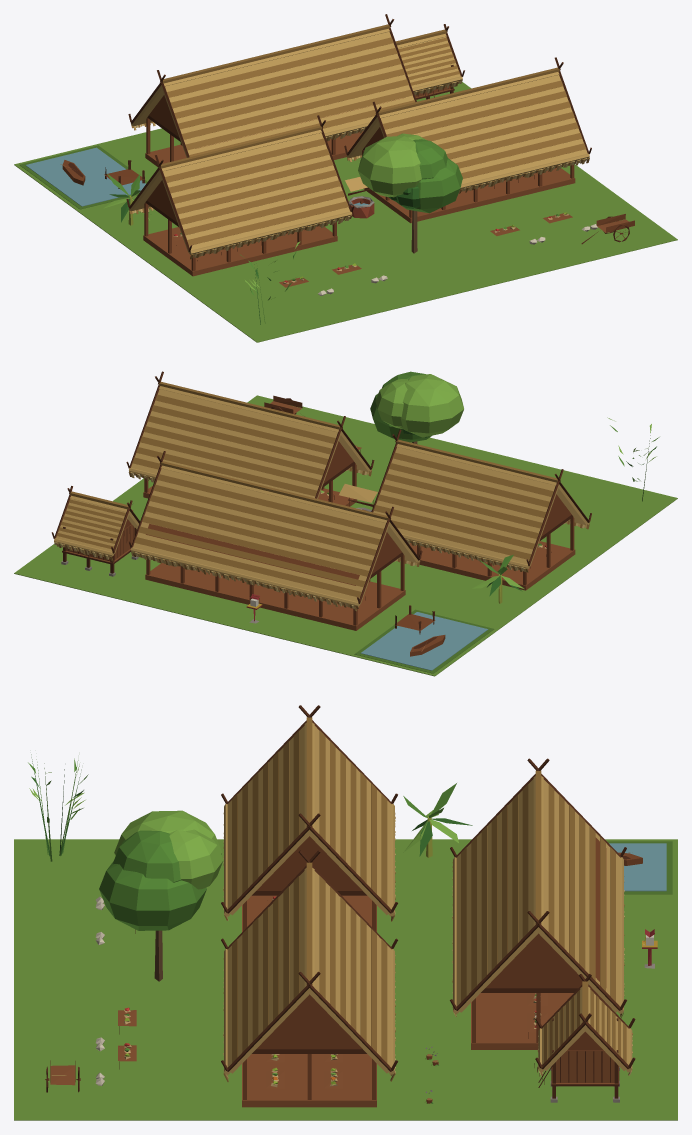
File: shop_5.glb
The picture shows the model from 3 angles, top to bottom: view 1: azimuth 30°, elevation 25°; view 2: azimuth 150°, elevation 25°; view 3: azimuth 270°, elevation 25°; orthographic projection. The views are drawn at different scales.
Parts seen in each view (by area): view 1: body; view 2: body; view 3: body.
Part boxes in pixels (<box>): body: <box>14,14,677,342</box>; body: <box>14,371,677,676</box>; body: <box>14,705,677,1120</box>.
Bounding box in the file's own units: 31.96 × 8.51 × 31.9.
